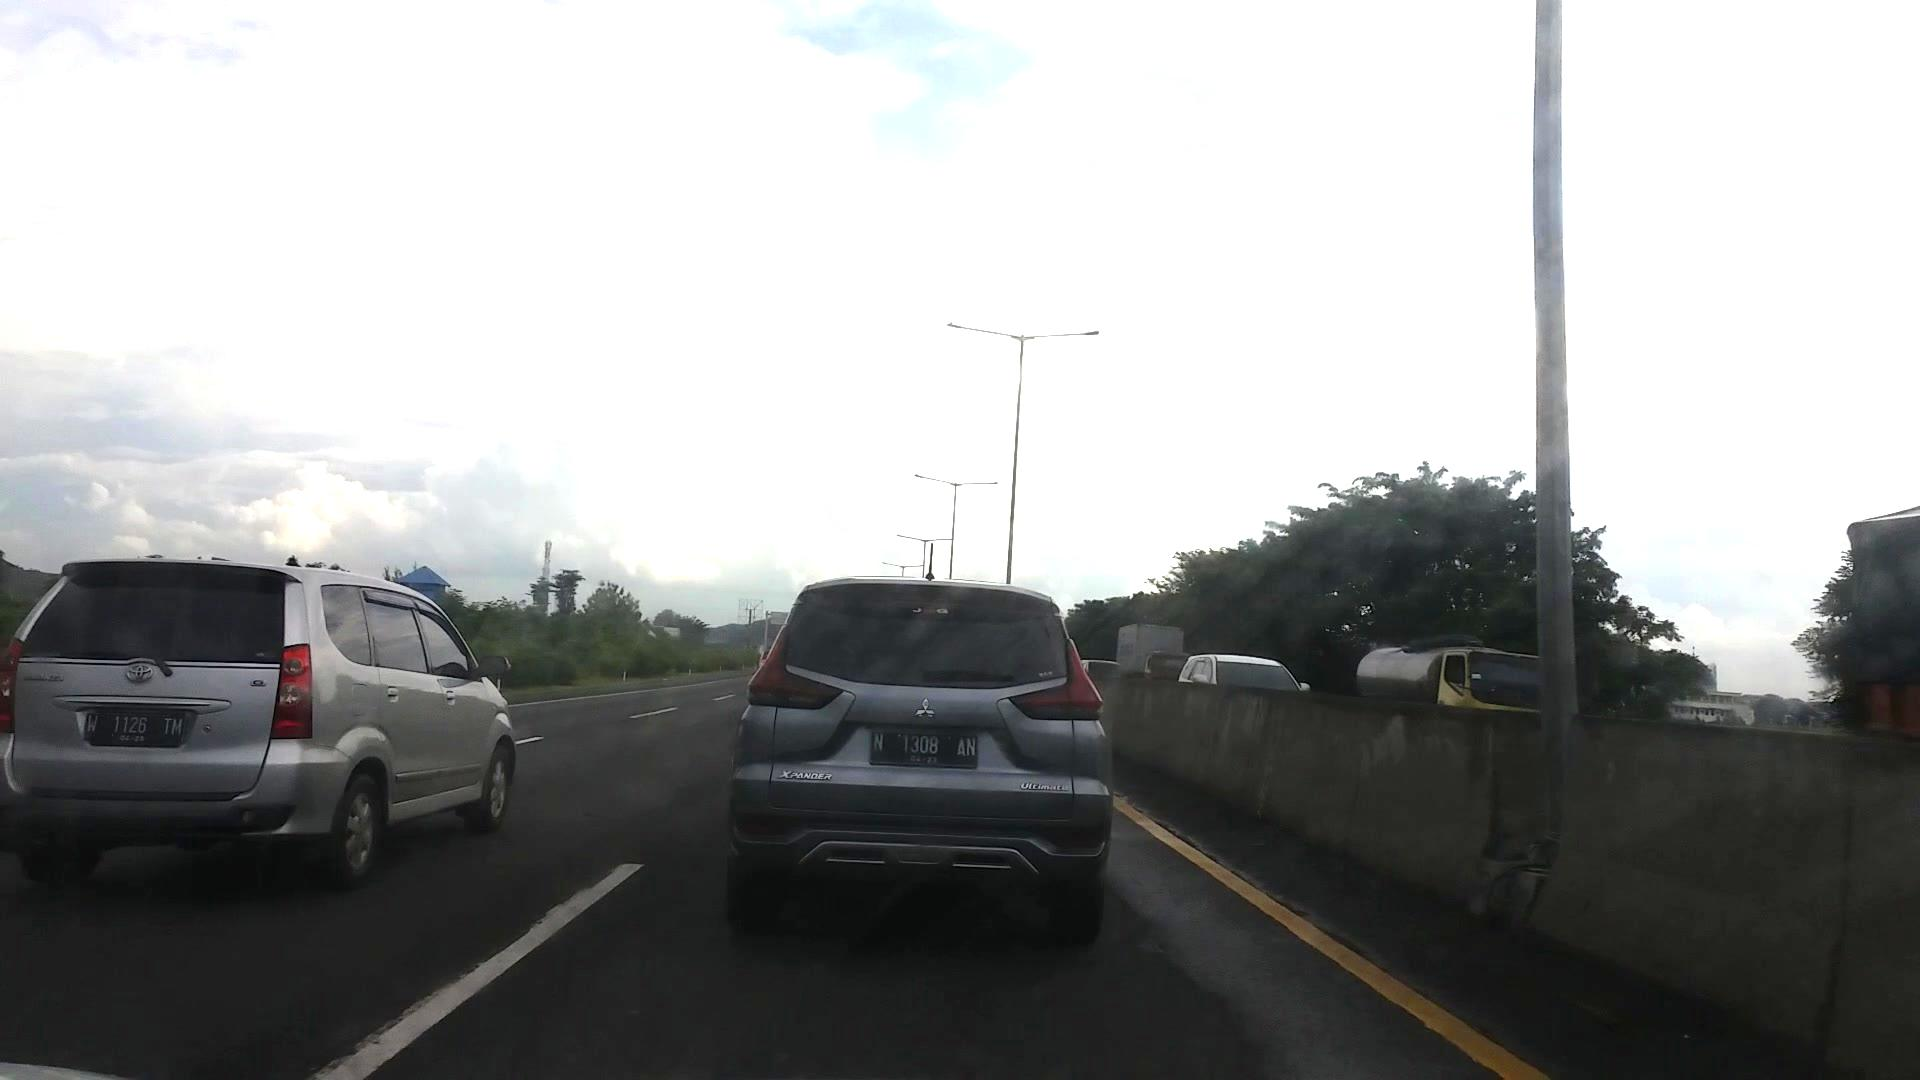plate_positive: (870, 729, 978, 769), (84, 709, 193, 748)
